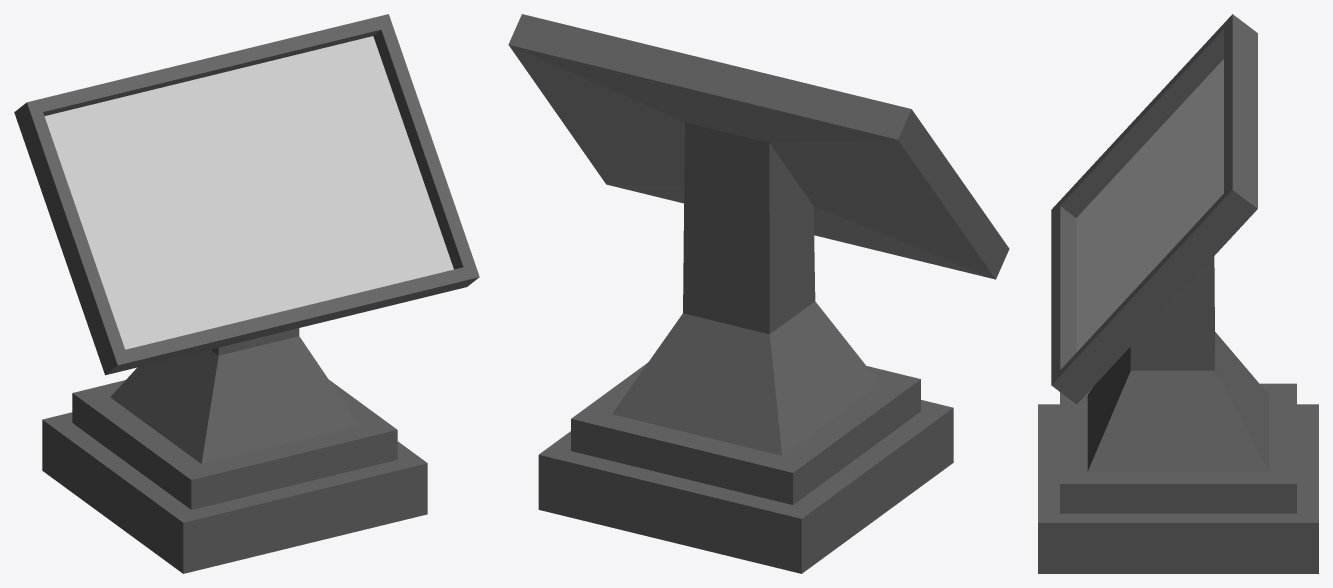
File: Map_Stand.fbx
3 views of the same model, side by side, from view 1: azimuth 30°, elevation 25°; view 2: azimuth 150°, elevation 25°; view 3: azimuth 270°, elevation 25° (orthographic). The views are drawn at different scales.
Visible parts, largest first — view 1: Cube.001; view 2: Cube.001; view 3: Cube.001.
Part boxes in pixels (bbox=[...]): Cube.001: bbox=[14, 14, 479, 573]; Cube.001: bbox=[508, 14, 1009, 573]; Cube.001: bbox=[1038, 14, 1318, 573].
Size of the model in its own units: 216 by 236 by 146.
